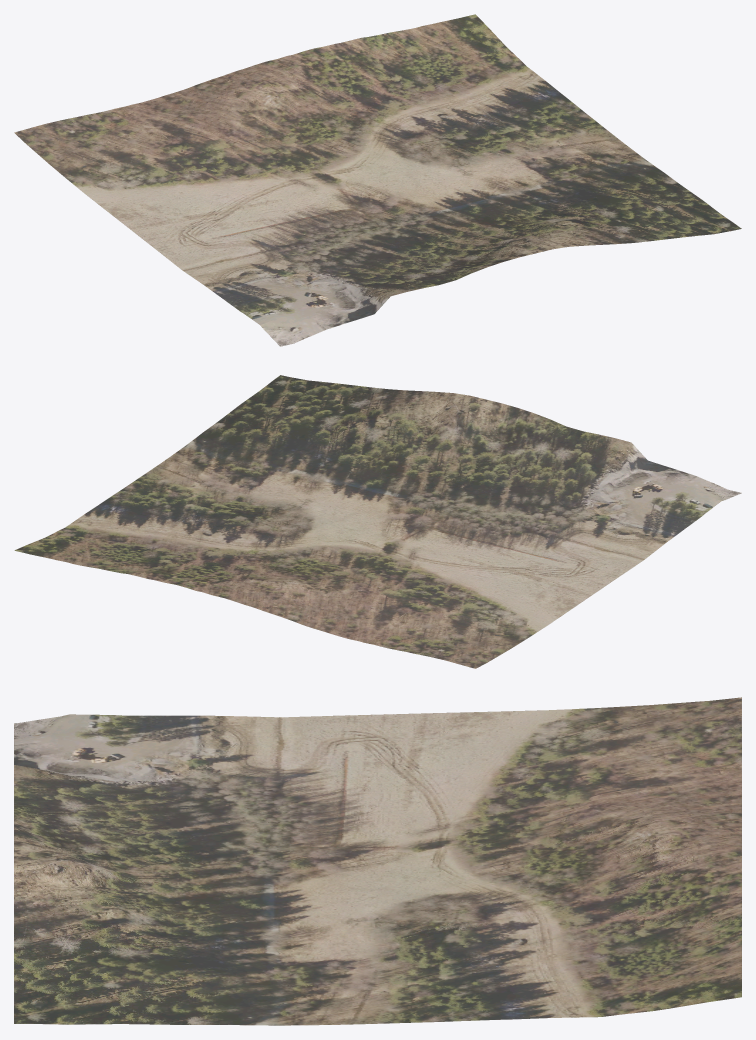
The model's file is CM_Terrain_24493326_6816108.fbx.
3 renders of one model, top to bottom at view 1: azimuth 30°, elevation 25°; view 2: azimuth 150°, elevation 25°; view 3: azimuth 270°, elevation 25°, orthographic. The views are drawn at different scales.
Parts seen in each view (by area): view 1: CM_Terrain_24493326_6816108_LOD0; view 2: CM_Terrain_24493326_6816108_LOD0; view 3: CM_Terrain_24493326_6816108_LOD0.
Part boxes in pixels (x1=…): CM_Terrain_24493326_6816108_LOD0: x1=14, y1=14, x2=741, y2=346; CM_Terrain_24493326_6816108_LOD0: x1=14, y1=375, x2=741, y2=668; CM_Terrain_24493326_6816108_LOD0: x1=14, y1=697, x2=741, y2=1025.
Size of what is drawn, in the model's own units: 205 by 13.23 by 205.
